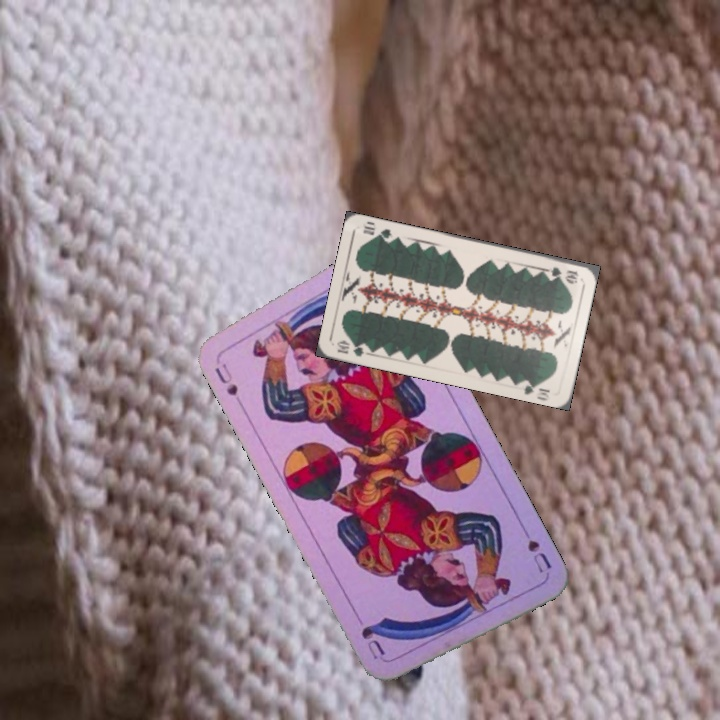G10: (333, 337, 373, 359), (541, 263, 581, 284)
SU: (516, 519, 555, 576), (210, 359, 241, 399)
